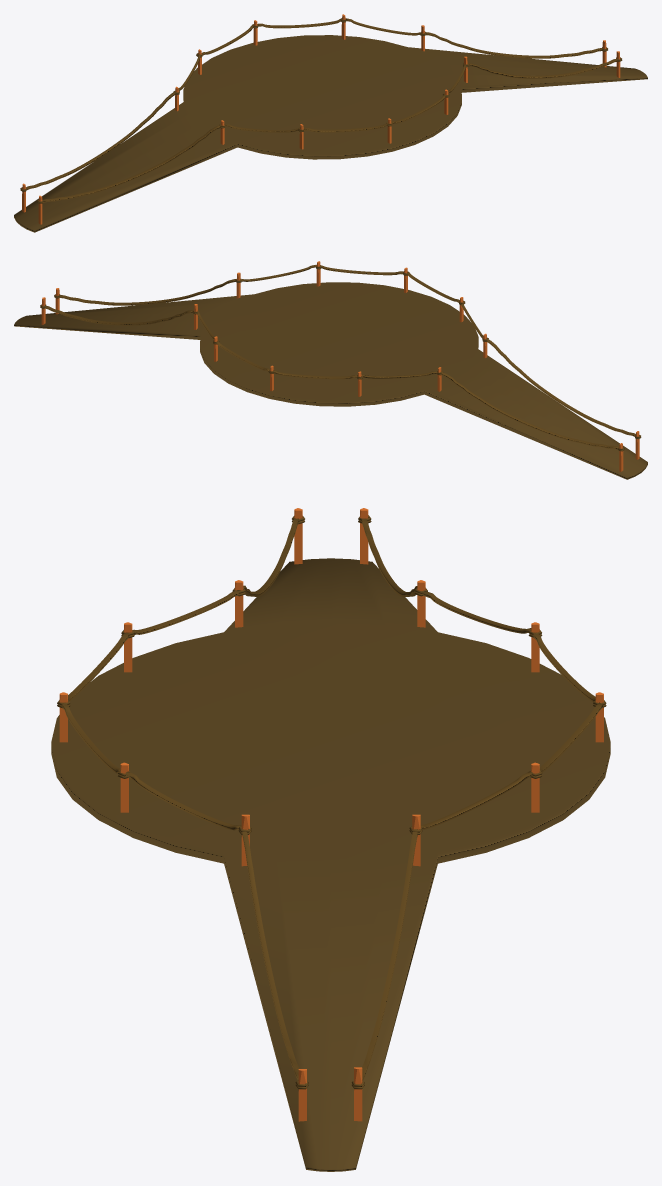
File: arenaBrigdeRope.fbx
3 renders of one model, top to bottom at view 1: azimuth 30°, elevation 25°; view 2: azimuth 150°, elevation 25°; view 3: azimuth 270°, elevation 25°, orthographic. The views are drawn at different scales.
Parts seen in each view (by area): view 1: Ground, Rope, Poles; view 2: Ground, Rope, Poles; view 3: Ground, Rope, Poles.
Part boxes in pixels (x1,y1,x2,y2): Ground: [14, 35, 647, 232]; Rope: [26, 18, 617, 202]; Poles: [22, 14, 620, 224]; Ground: [14, 282, 647, 479]; Rope: [44, 265, 635, 449]; Poles: [41, 261, 639, 471]; Ground: [51, 558, 610, 1171]; Rope: [62, 518, 603, 1080]; Poles: [59, 508, 603, 1121].
Bounding box in the file's own units: 4803 × 608 × 1866.
